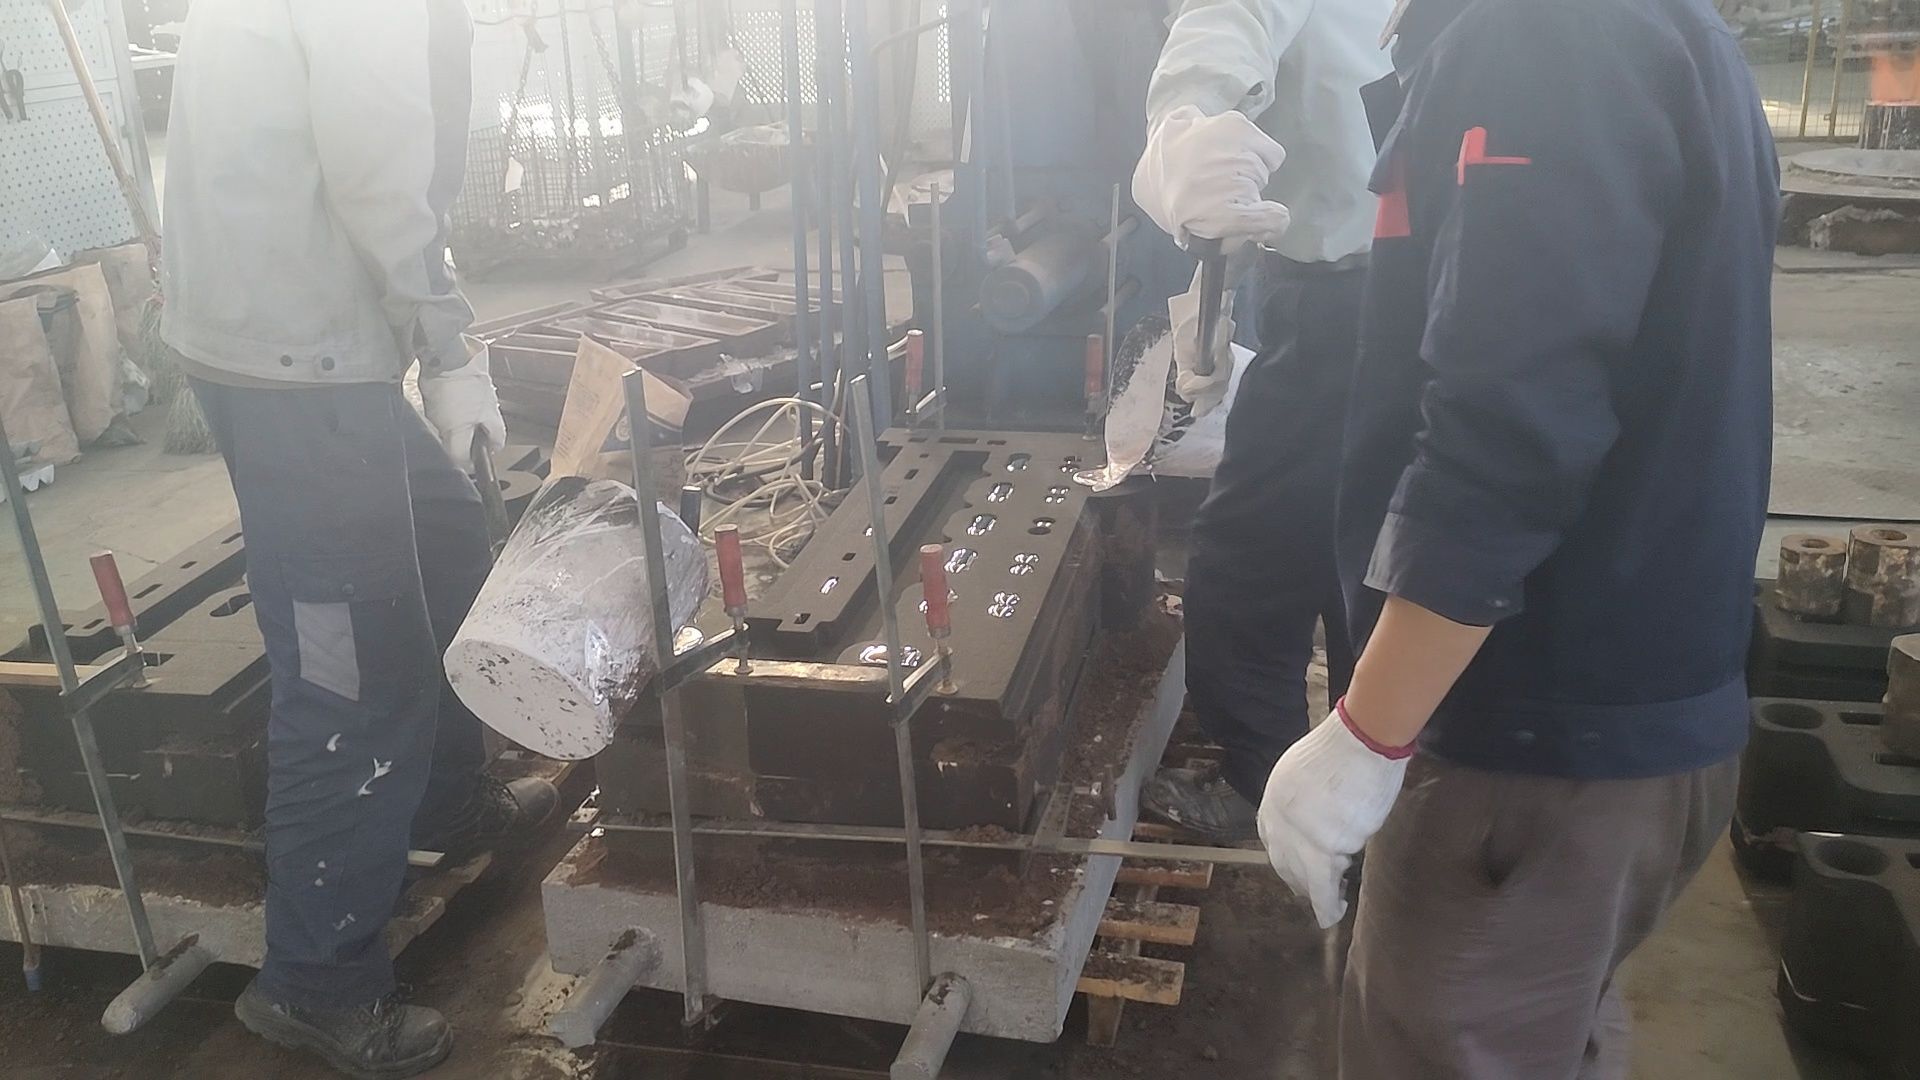pouring hole: (1815, 837, 1892, 876), (1760, 702, 1826, 731), (651, 625, 702, 657), (1724, 579, 1764, 601), (1091, 465, 1129, 488), (465, 476, 512, 495)
